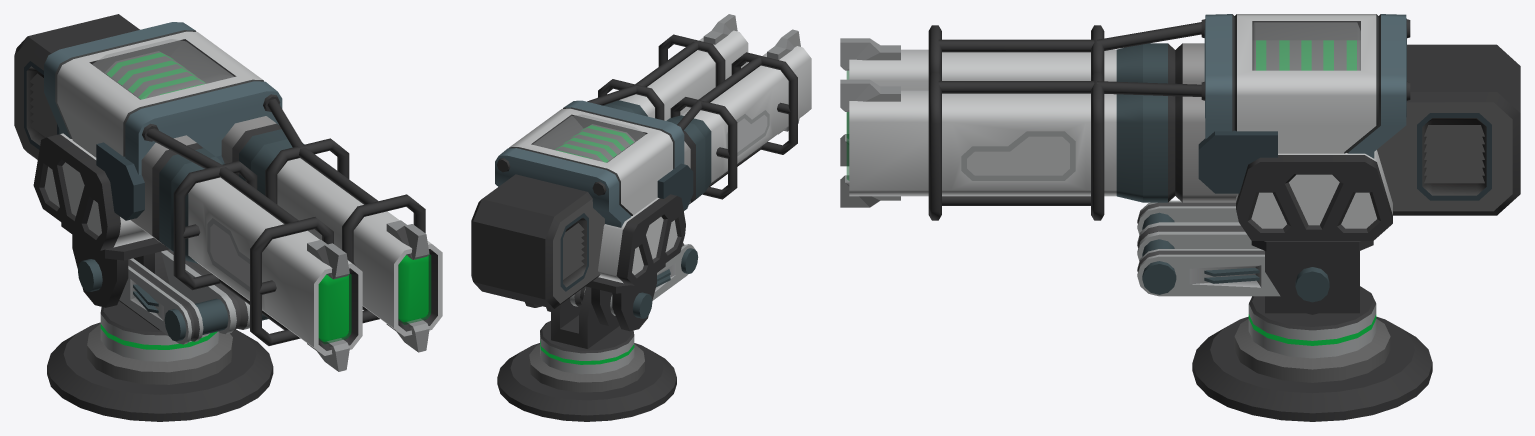
The model's file is Turret_002.glb.
3 renders of one model, left to right at view 1: azimuth 30°, elevation 25°; view 2: azimuth 150°, elevation 25°; view 3: azimuth 270°, elevation 25°, orthographic. The views are drawn at different scales.
Visible parts, largest first — view 1: Turret_002_body_001, Turret_002, Turret_002_leg_002, Turret_002_leg_004, Turret_002_leg_003; view 2: Turret_002_body_001, Turret_002, Turret_002_leg_004, Turret_002_leg_002; view 3: Turret_002_body_001, Turret_002, Turret_002_leg_002, Turret_002_leg_004, Turret_002_leg_003.
Boxes of the visible parts, x1,y1,x2,y2 form: Turret_002_body_001: [14, 14, 442, 371]; Turret_002: [47, 251, 273, 421]; Turret_002_leg_002: [119, 258, 268, 344]; Turret_002_leg_004: [61, 222, 169, 307]; Turret_002_leg_003: [161, 249, 249, 334]; Turret_002_body_001: [471, 14, 811, 308]; Turret_002: [497, 286, 676, 421]; Turret_002_leg_004: [525, 263, 665, 331]; Turret_002_leg_002: [610, 243, 698, 315]; Turret_002_body_001: [840, 14, 1520, 240]; Turret_002: [1192, 272, 1432, 421]; Turret_002_leg_002: [1137, 200, 1280, 296]; Turret_002_leg_004: [1251, 241, 1373, 314]; Turret_002_leg_003: [1137, 222, 1259, 260].
Size of the model in its own units: 1.22 by 1.86 by 3.47.
Materials: 3 (3 with a texture image).
